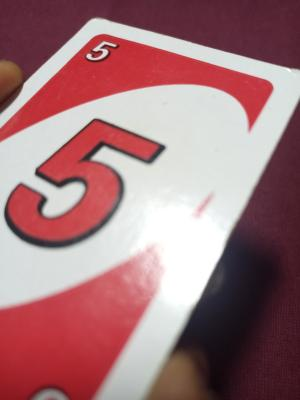num_5: (0, 114, 171, 255)
